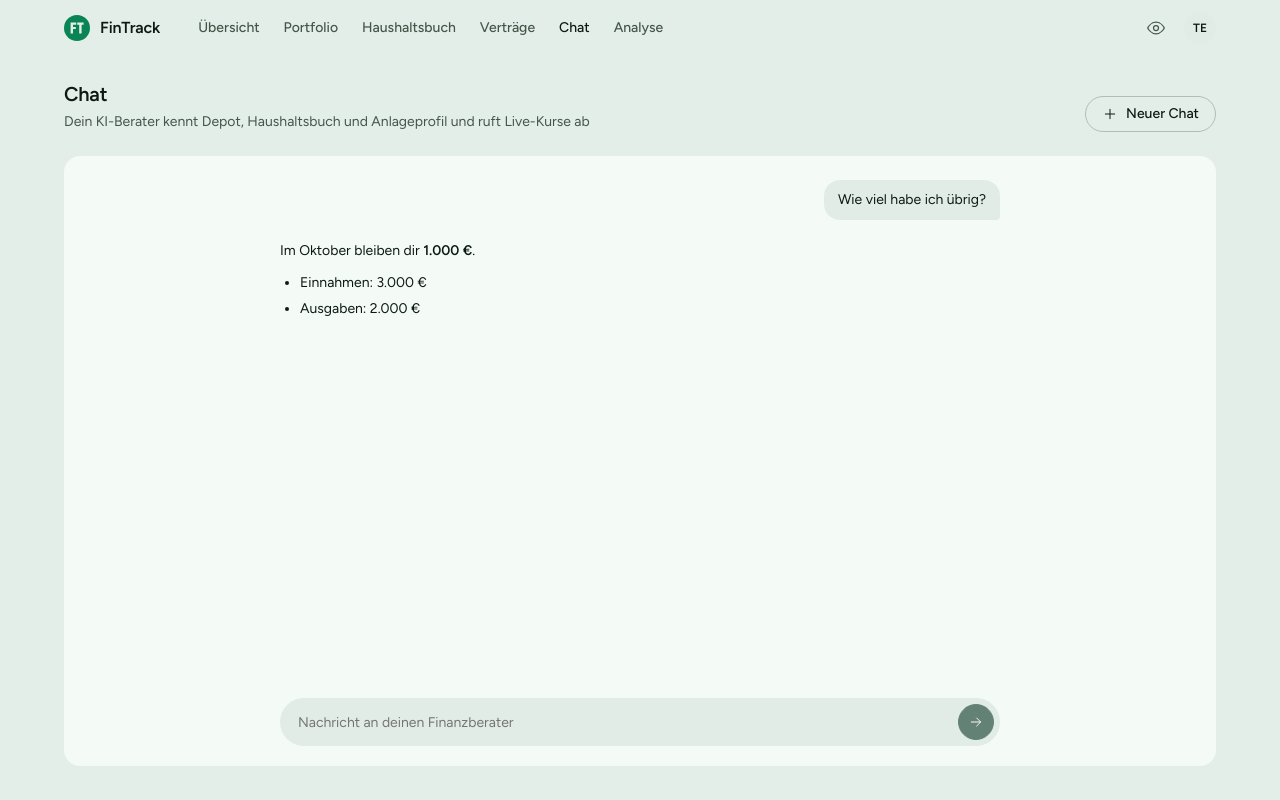
Test: Chat › behält die Frage, wenn die API ablehnt
Type "Hallo" into the field labelled "Nachricht". click: (623, 722)
box: x1=296 y1=704 x2=950 y2=740
Then press Enter
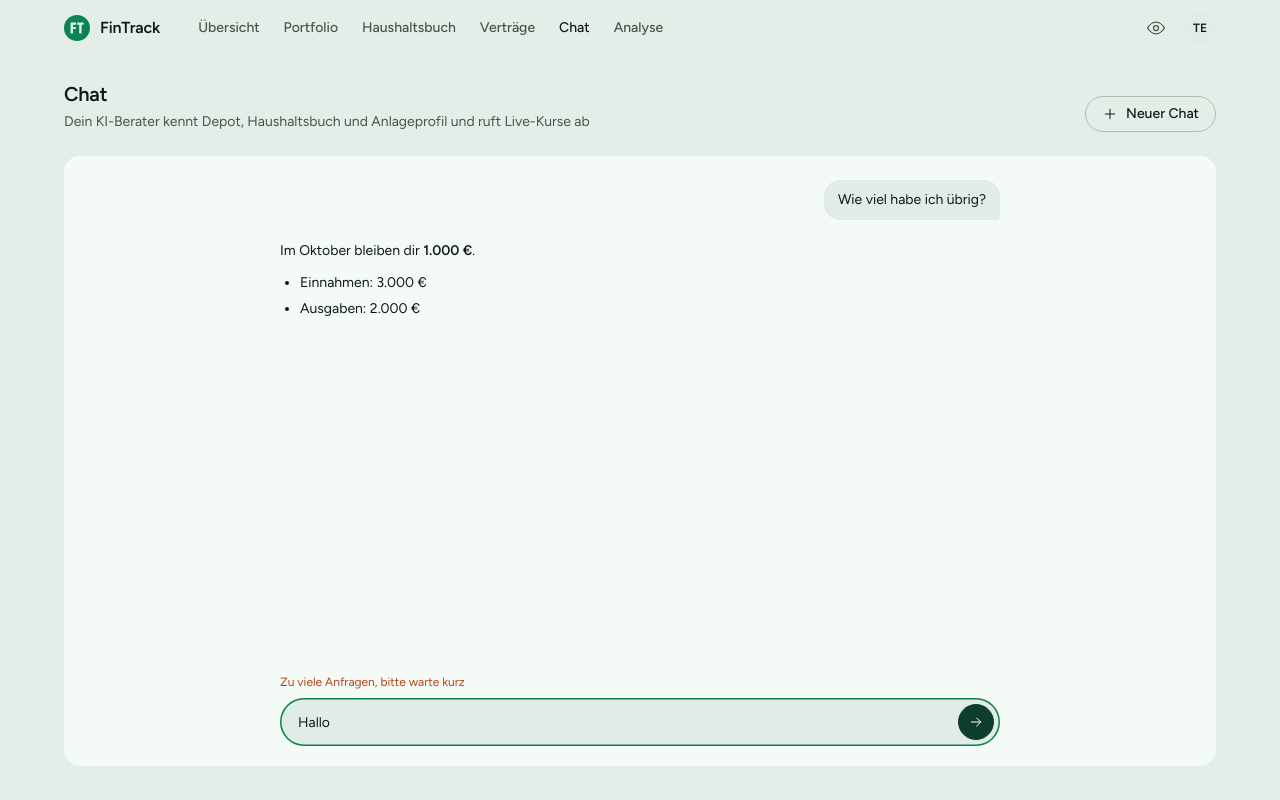
Check: the message reads "Zu viele Anfragen, bitte warte kurz", box x1=280 y1=675 x2=465 y2=689
